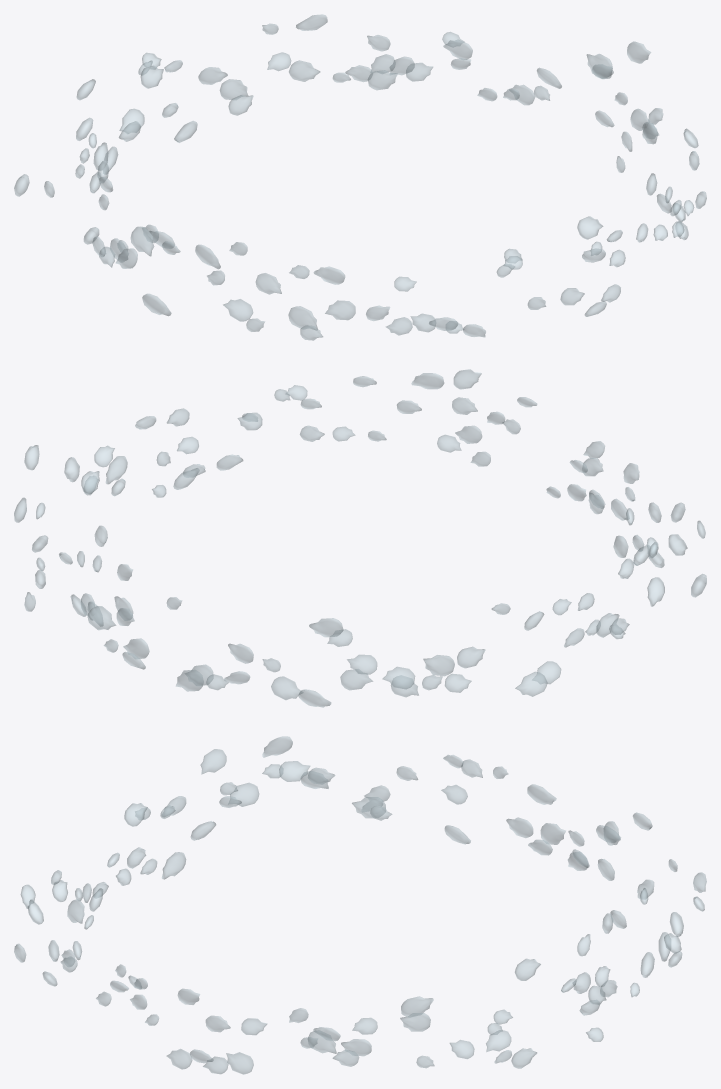
The model's file is mountmeruclouds.gltf.
The picture shows the model from 3 angles, top to bottom: view 1: azimuth 30°, elevation 25°; view 2: azimuth 150°, elevation 25°; view 3: azimuth 270°, elevation 25°; orthographic projection. The views are drawn at different scales.
Parts seen in each view (by area): view 1: clouds; view 2: clouds; view 3: clouds.
Boxes of the visible parts, x1,y1,x2,y2 form: clouds: [14, 14, 706, 340]; clouds: [14, 369, 706, 707]; clouds: [14, 736, 706, 1074].
Bounding box in the file's own units: 44.58 × 6.93 × 46.06.
